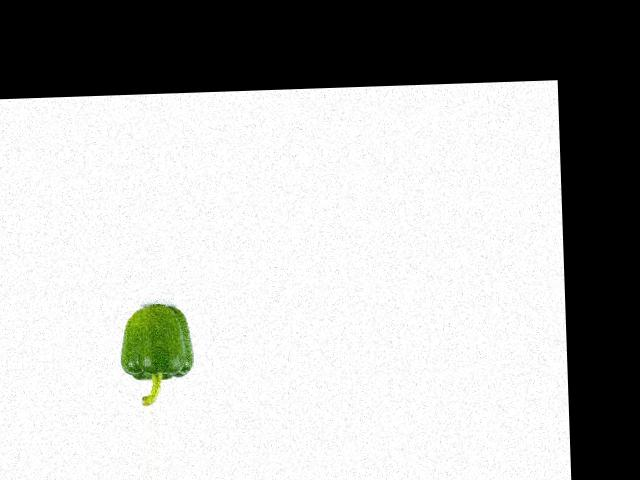bell_pepper: (117, 302, 206, 404)
